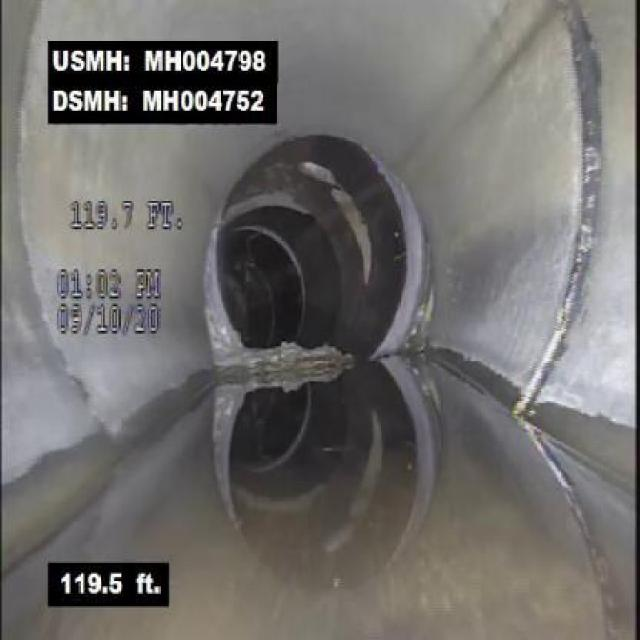Joint offset: (365, 124, 443, 396), (189, 198, 254, 390)
